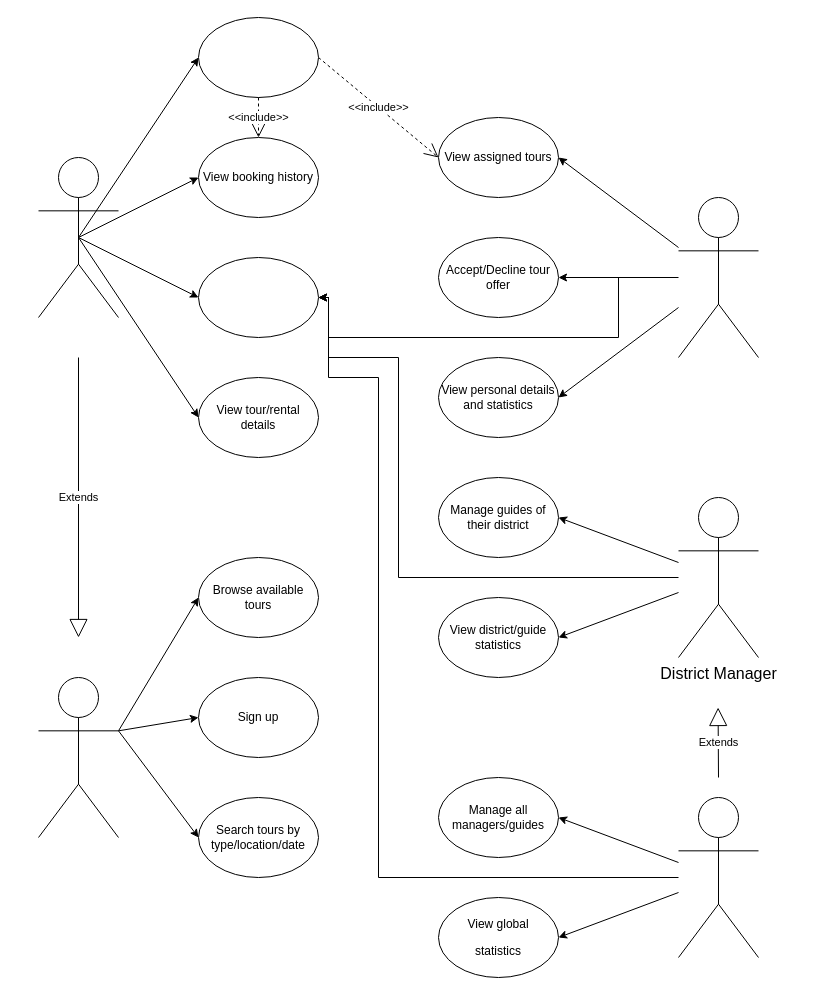
The diagram is 823 pixels wide and 1001 high, and some of its shapes have lost their labels. The box of each missing label's shape, as (x1, y1, x2, y2) in pixels:
Book a tour/rental/ laguage_storage: (198, 16, 318, 98)
Client: (38, 676, 118, 838)
Guide: (678, 196, 758, 358)
Log in/Log out: (198, 256, 318, 338)
Owner / Global Manager: (678, 796, 758, 958)
Registered Client: (38, 156, 118, 318)
